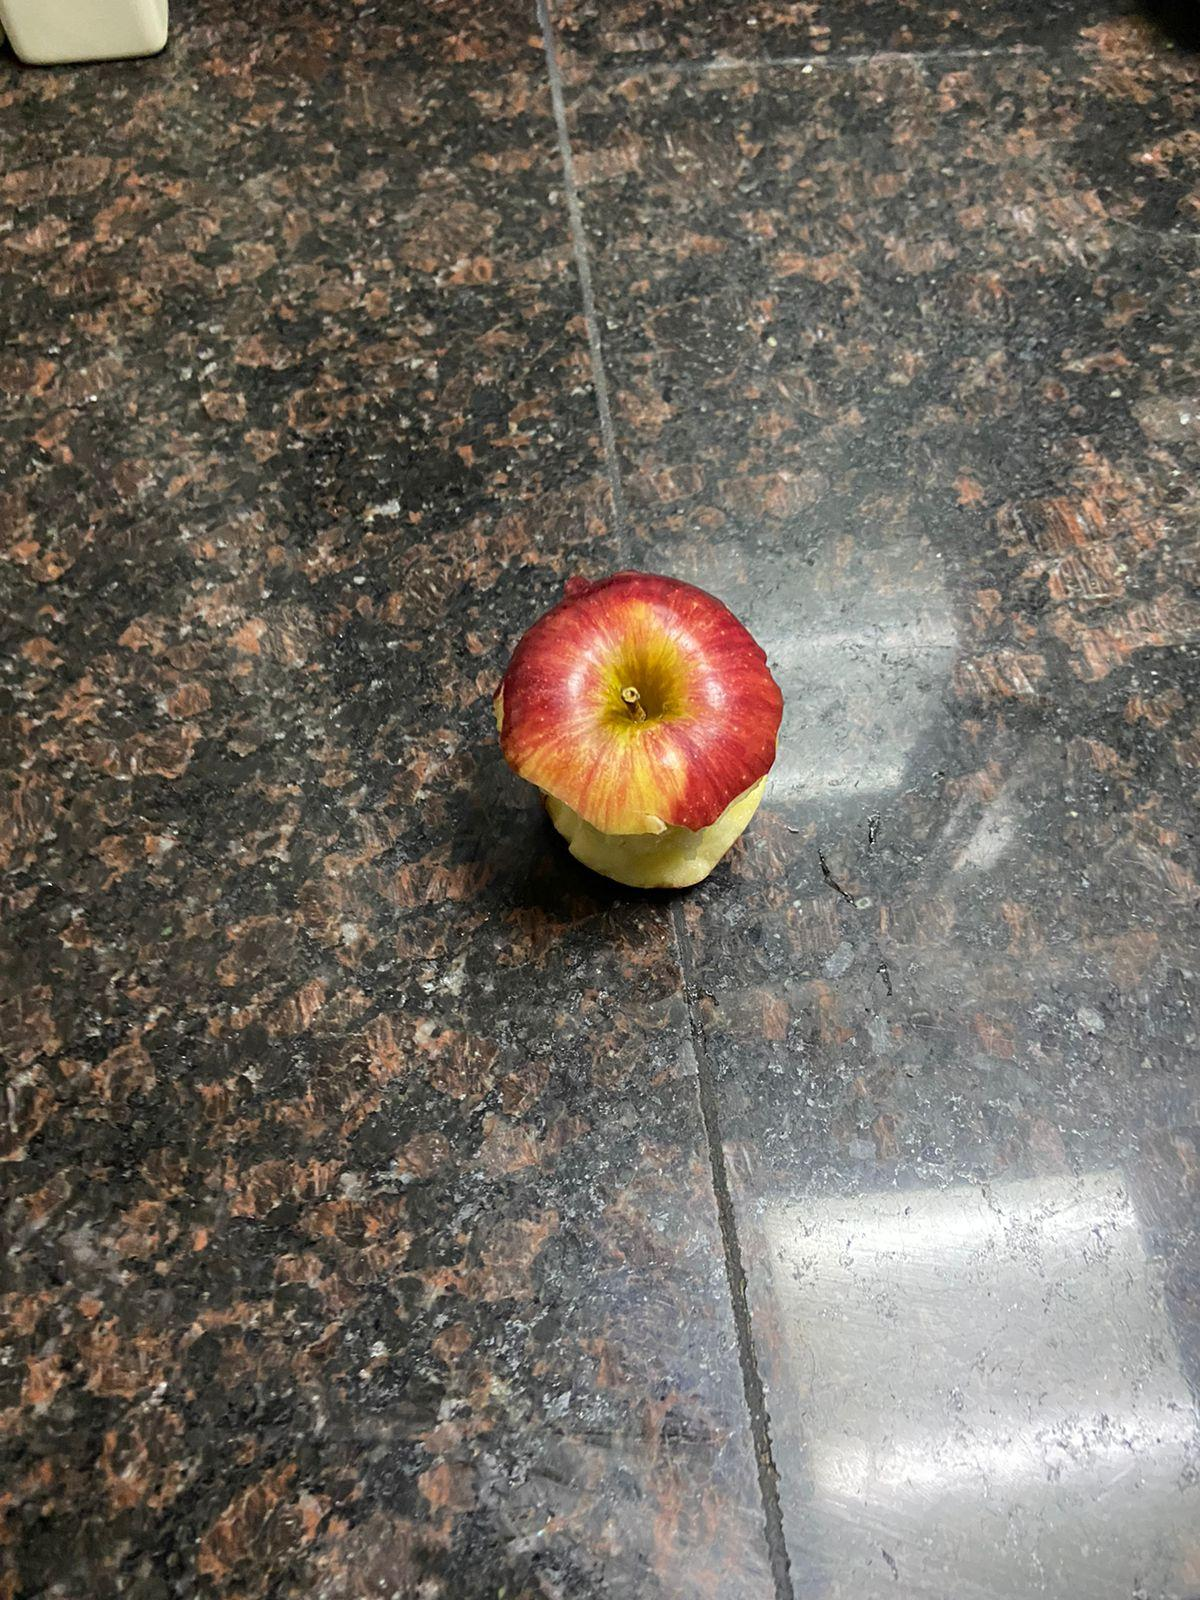Apple: (493, 554, 792, 907)
